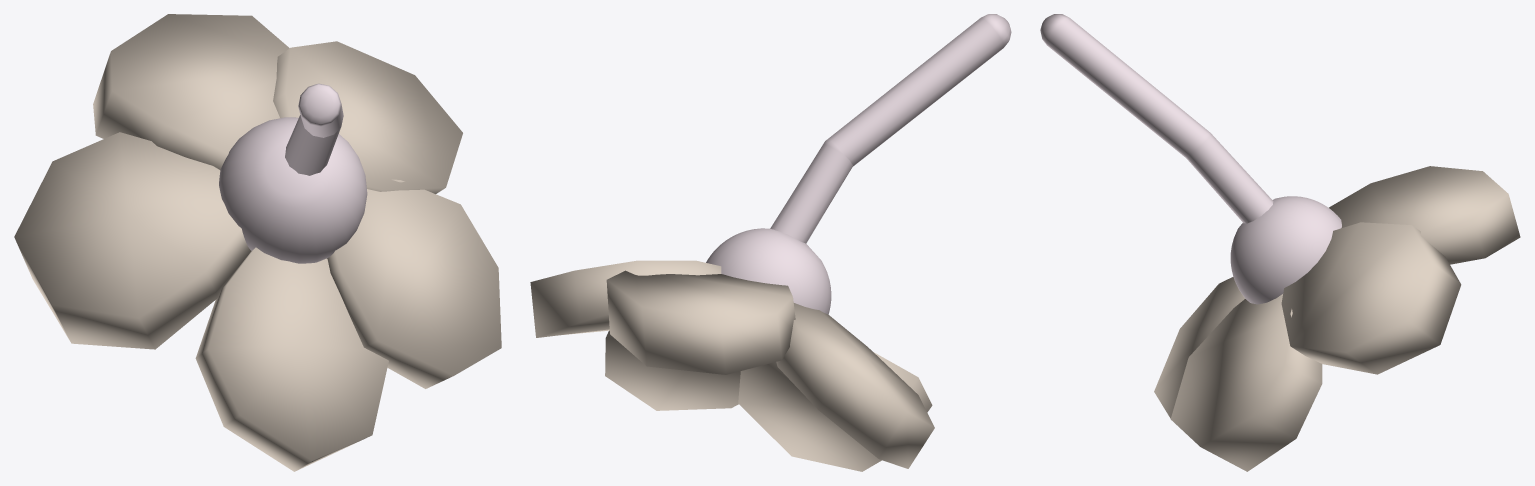
The model's file is daisyfixed.fbx.
The picture shows the model from 3 angles, left to right: view 1: azimuth 30°, elevation 25°; view 2: azimuth 150°, elevation 25°; view 3: azimuth 270°, elevation 25°; orthographic projection. The views are drawn at different scales.
Parts seen in each view (by area): view 1: s.0033, s.0031, s.0034, s.0032, s.0035, p.0021, s.0046; view 2: s.0032, s.0033, s.0046, s.0031, s.0035, p.0021, s.0034; view 3: s.0035, s.0034, s.0032, s.0046, p.0021, s.0031.
Part boxes in pixels (<box>): s.0033: <box>14,132,251,349</box>; s.0031: <box>195,247,388,471</box>; s.0034: <box>327,179,501,388</box>; s.0032: <box>93,14,289,169</box>; s.0035: <box>273,41,462,193</box>; p.0021: <box>219,117,367,263</box>; s.0046: <box>285,83,343,175</box>; s.0032: <box>606,270,795,374</box>; s.0033: <box>776,303,934,468</box>; s.0046: <box>770,14,1011,243</box>; s.0031: <box>738,352,932,471</box>; s.0035: <box>530,260,721,337</box>; p.0021: <box>706,228,831,314</box>; s.0034: <box>605,330,740,410</box>; s.0035: <box>1281,222,1461,374</box>; s.0034: <box>1170,294,1322,471</box>; s.0032: <box>1329,166,1520,264</box>; s.0046: <box>1040,14,1273,223</box>; p.0021: <box>1230,196,1341,304</box>; s.0031: <box>1154,277,1245,418</box>.
Size of the model in its own units: 15.64 by 16.4 by 18.58.
